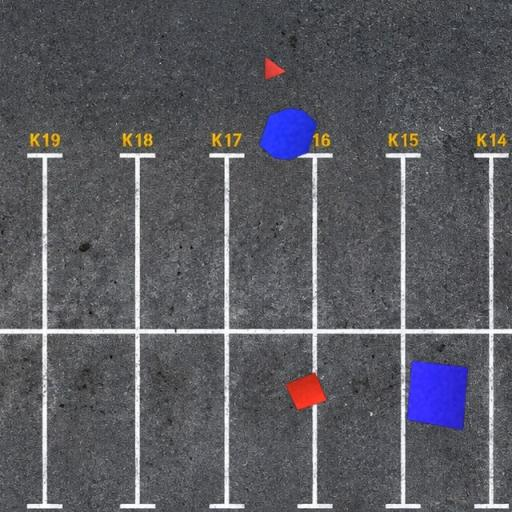BLUE_SQUARE: (406, 361, 469, 431)
RED_SQUARE: (285, 371, 328, 411)
